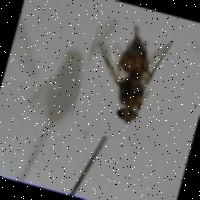Oriental-fruit-fly: (68, 16, 186, 150)
